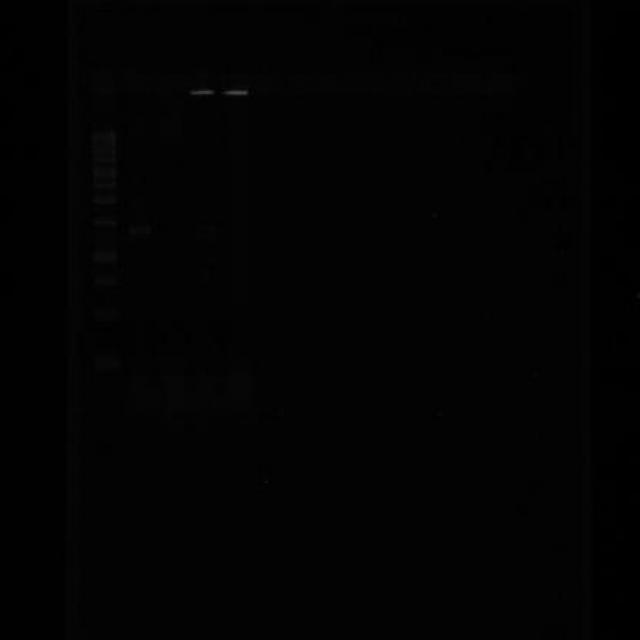B: (219, 66, 250, 97), (188, 66, 215, 97), (124, 220, 152, 238)
L: (83, 59, 522, 102)
M: (86, 123, 122, 382)
P: (90, 302, 118, 324), (94, 267, 118, 290), (94, 247, 118, 264), (93, 214, 116, 230), (92, 194, 116, 208), (93, 168, 116, 180), (93, 154, 116, 164), (94, 180, 115, 189)
